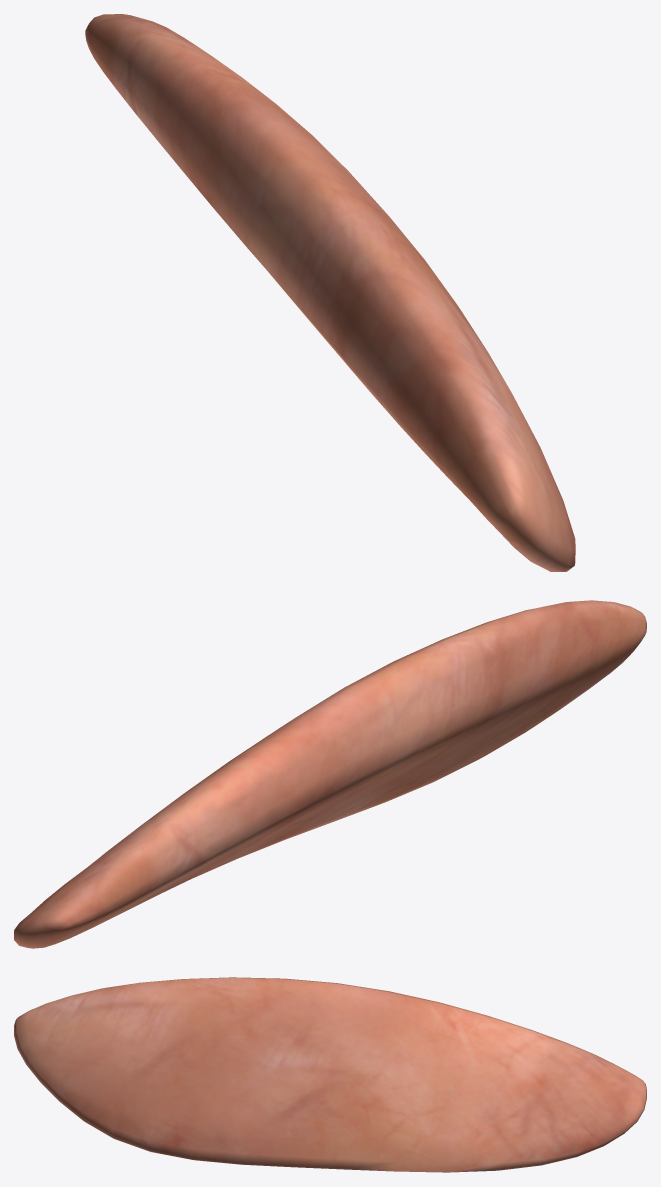
File: l_lateral_globus_pallidus_reversed01.fbx
3 renders of one model, top to bottom at view 1: azimuth 30°, elevation 25°; view 2: azimuth 150°, elevation 25°; view 3: azimuth 270°, elevation 25°, orthographic. The views are drawn at different scales.
Visible parts, largest first — view 1: L_Lateral_Globus_Pallidus1; view 2: L_Lateral_Globus_Pallidus1; view 3: L_Lateral_Globus_Pallidus1.
Part boxes in pixels (left/top/right/bottom): L_Lateral_Globus_Pallidus1: left=85, top=14, right=575, bottom=571; L_Lateral_Globus_Pallidus1: left=14, top=600, right=646, bottom=948; L_Lateral_Globus_Pallidus1: left=14, top=977, right=646, bottom=1172.
Size of the model in its own units: 1.38 by 1.23 by 4.72.
Materials: 1 (1 with a texture image).
